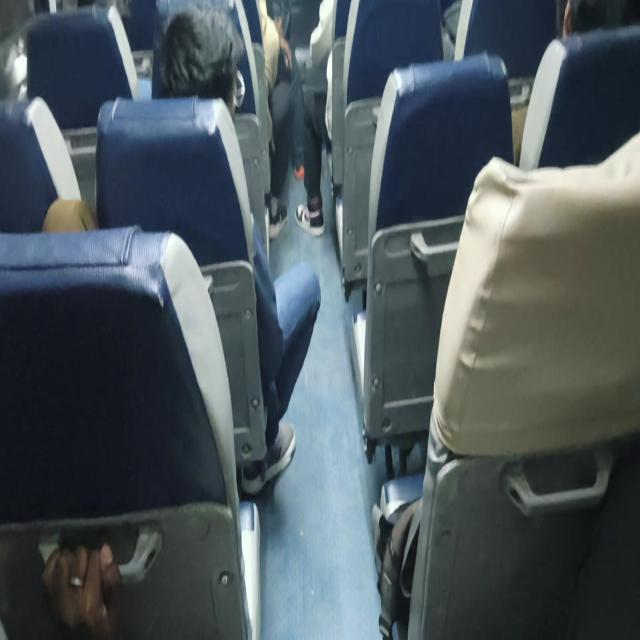person: (154, 7, 321, 494), (294, 0, 335, 236), (157, 6, 239, 120), (40, 536, 124, 638)
